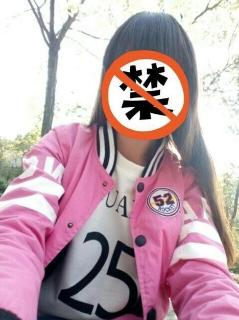long sleeve outwear: (0, 118, 239, 319)
